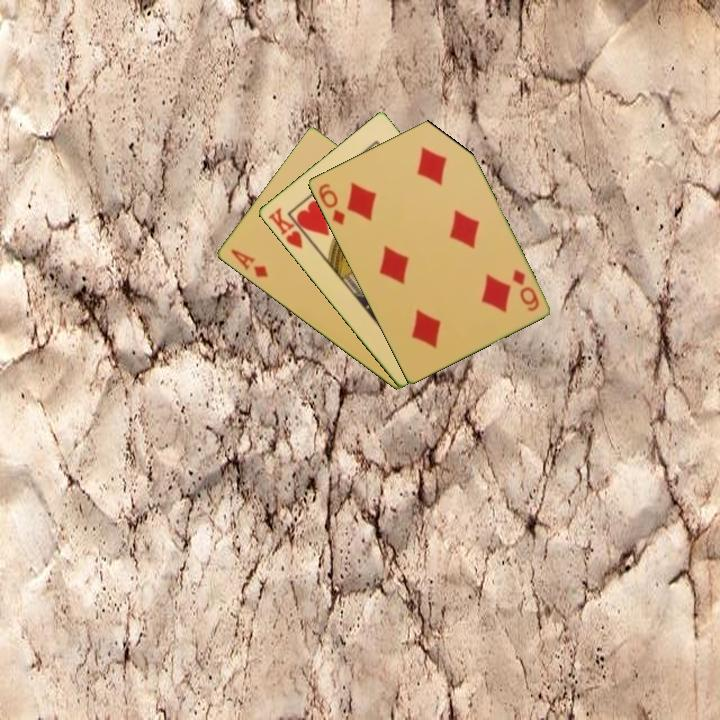6d: (508, 265, 542, 314), (314, 180, 348, 228)
Ad: (227, 246, 271, 280)
Kh: (264, 204, 314, 251)
